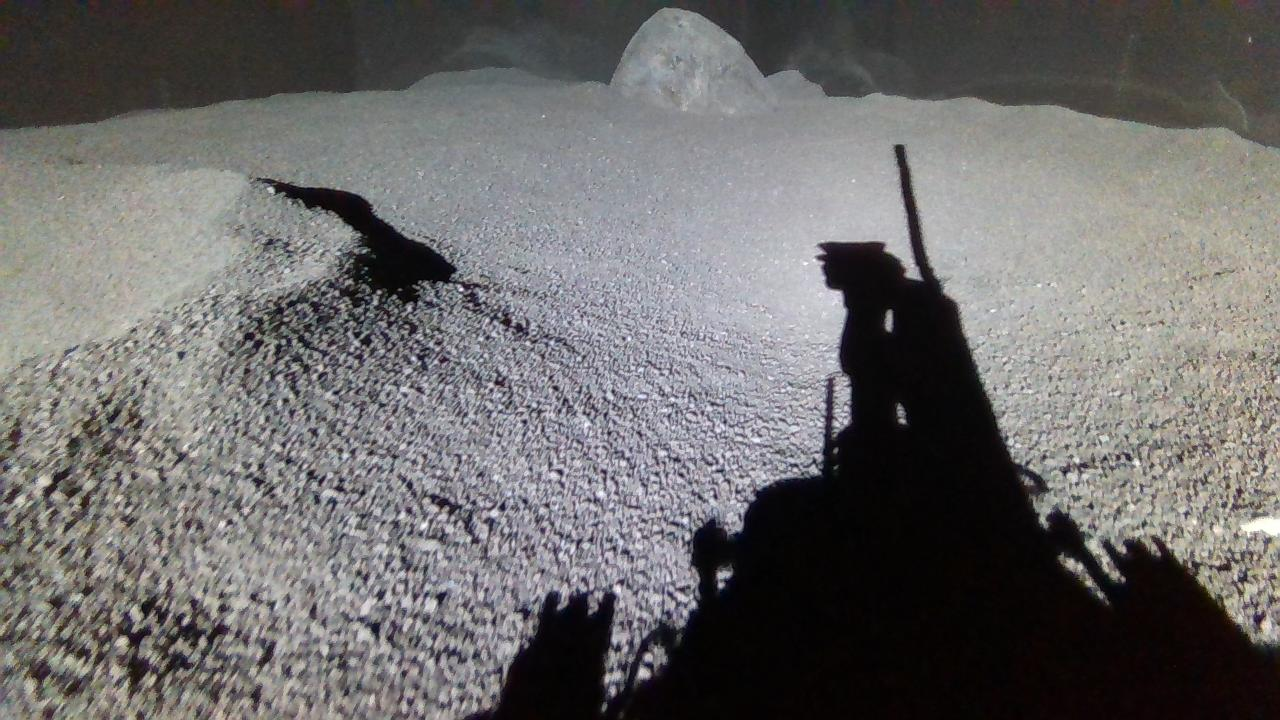rock: (611, 7, 778, 114)
